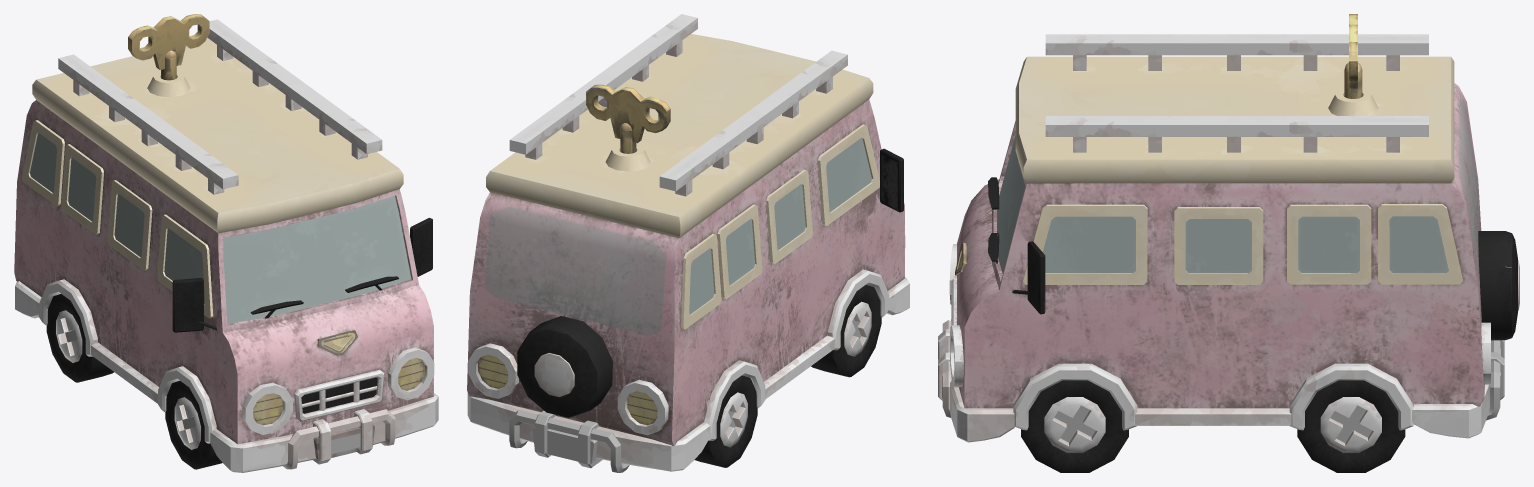
Rendered from P_car3.fbx.
The picture shows the model from 3 angles, left to right: view 1: azimuth 30°, elevation 25°; view 2: azimuth 150°, elevation 25°; view 3: azimuth 270°, elevation 25°; orthographic projection. The views are drawn at different scales.
Visible parts, largest first — view 1: P_car3_001, P_car3_002, P_car3_004, P_car3_003; view 2: P_car3_001, P_car3_002, P_car3_003, P_car3_004; view 3: P_car3_001, P_car3_004, P_car3_003, P_car3_002.
Part boxes in pixels (x1,y1,x2,y2): P_car3_001: [14, 19, 438, 472]; P_car3_002: [128, 14, 209, 80]; P_car3_004: [46, 293, 113, 382]; P_car3_003: [165, 381, 222, 469]; P_car3_001: [467, 14, 909, 472]; P_car3_002: [586, 84, 670, 153]; P_car3_003: [811, 284, 881, 377]; P_car3_004: [694, 375, 757, 467]; P_car3_001: [938, 34, 1519, 442]; P_car3_004: [1297, 380, 1405, 472]; P_car3_003: [1021, 380, 1128, 472]; P_car3_002: [1344, 14, 1362, 98].
Bounding box in the file's own units: 14.62 × 18.02 × 24.36.
